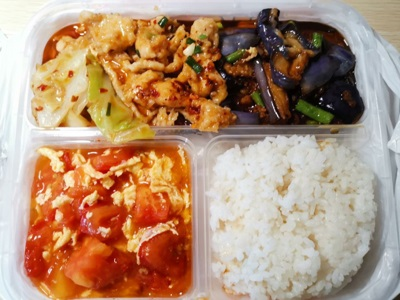jdxhs: (28, 145, 191, 291)
rice: (215, 141, 368, 288)
sqz: (228, 20, 356, 119)
szrp: (46, 19, 213, 124)
